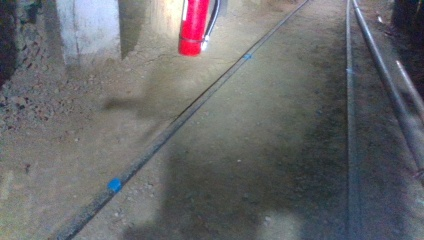fire_extinguisher: (176, 0, 220, 57)
